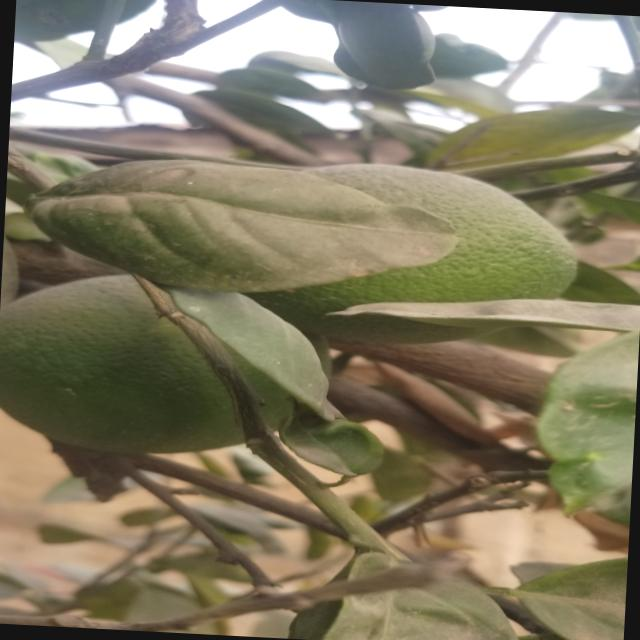Unripe: (242, 158, 590, 341), (0, 268, 302, 461)
